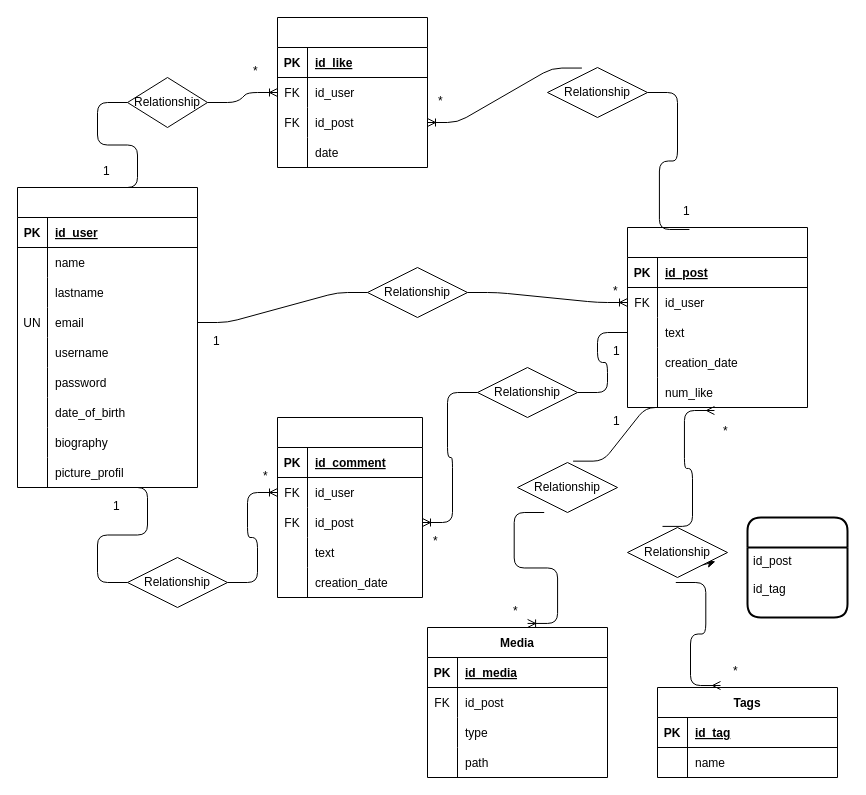
Image size: 866x795. Some labels were removed from this diagram. Each missing label, with the box of its shape:
Comments: (276, 416, 422, 598)
Likes: (276, 16, 428, 168)
Post_Tag: (746, 516, 848, 618)
Posts: (626, 226, 808, 408)
Users: (16, 186, 198, 488)
